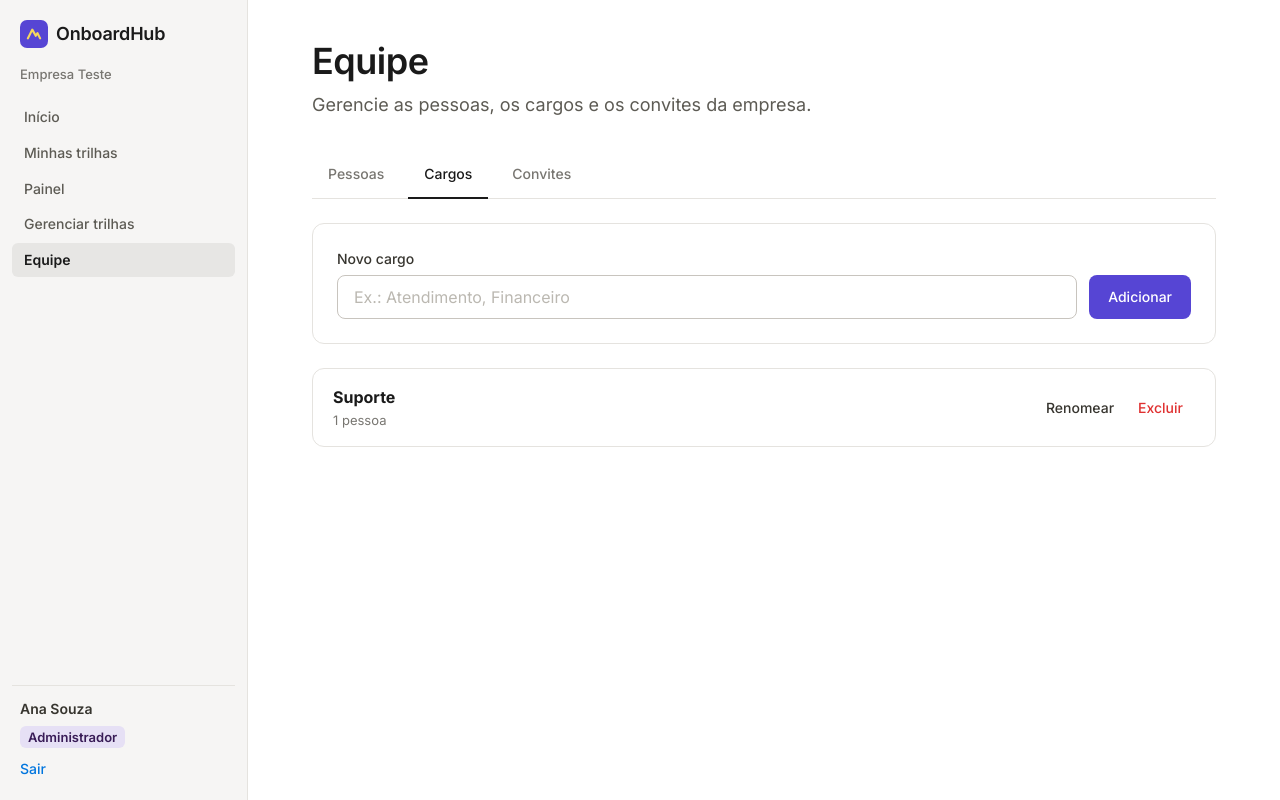
Test: equipe: cargos › mostra erro de nome repetido no campo
This screenshot has width=1280, height=800.
Step 1. Type "Suporte" into the field labelled "Novo cargo" → [707, 298], box [337,276,1077,320]
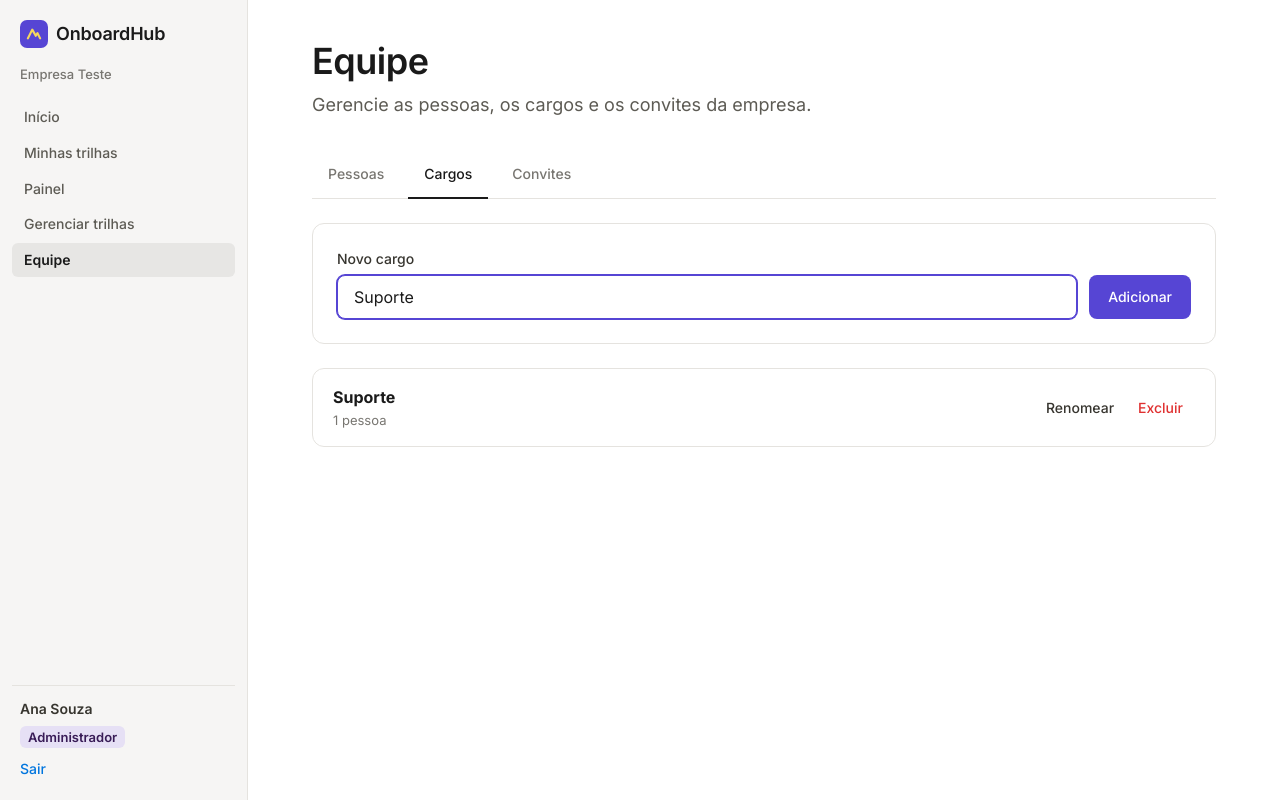
Step 2. Click the button "Adicionar" → [1140, 297], box [1089,275,1191,319]
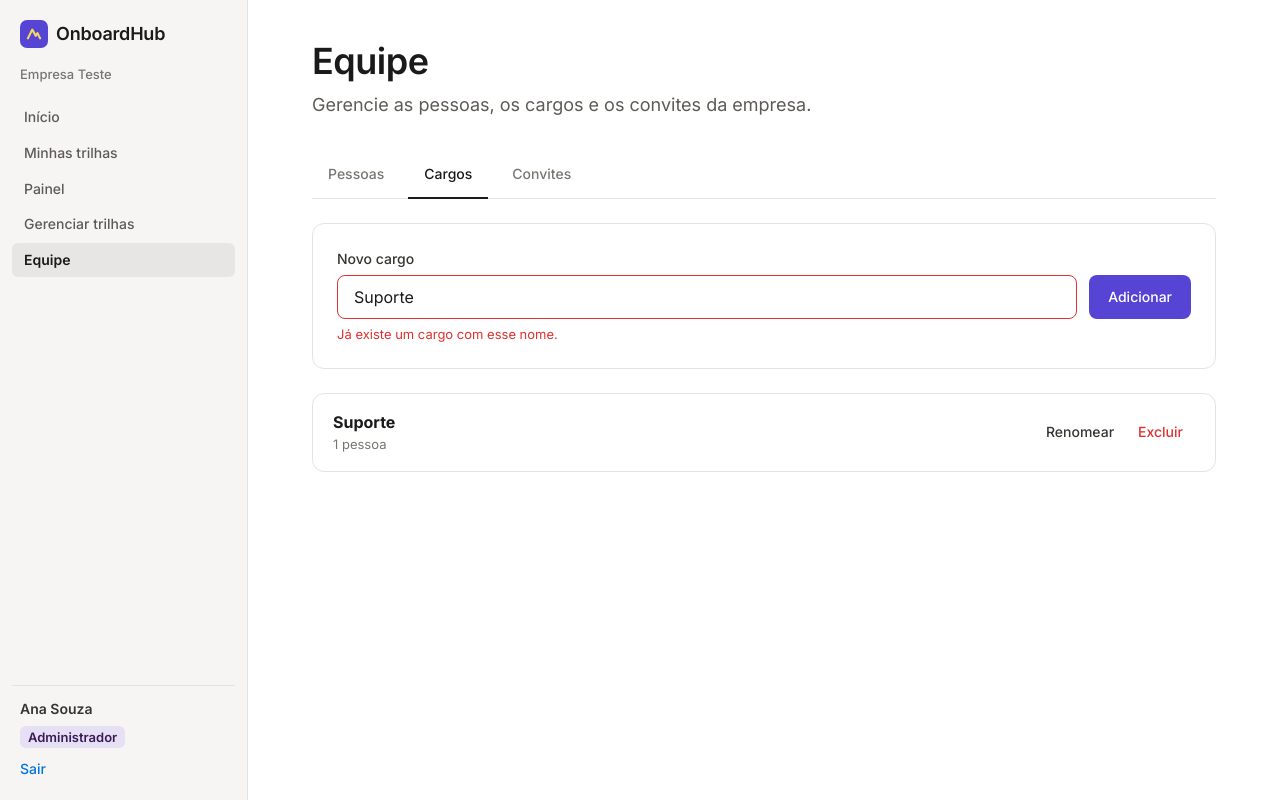
Result: the text "Já existe um cargo com esse nome." is shown at [337,326,558,342]
